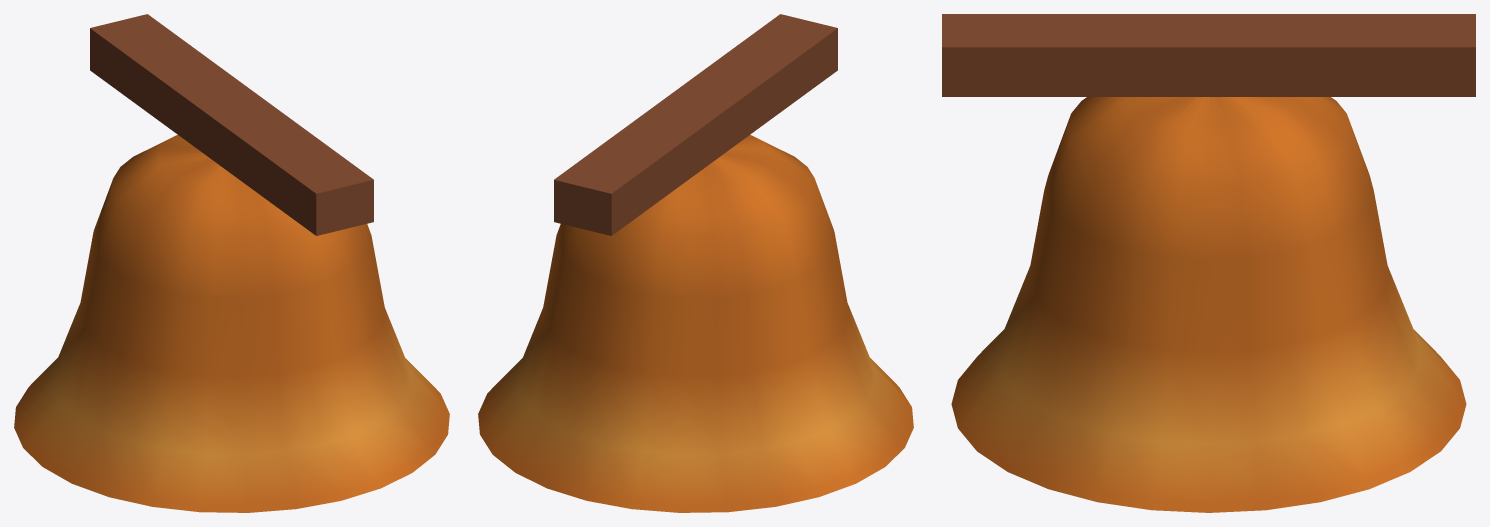
The model's file is bell.glb.
3 views of the same model, side by side, from view 1: azimuth 30°, elevation 25°; view 2: azimuth 150°, elevation 25°; view 3: azimuth 270°, elevation 25° (orthographic). The views are drawn at different scales.
Parts seen in each view (by area): view 1: SinoMalha; view 2: SinoMalha; view 3: SinoMalha.
Boxes of the visible parts, bbox=[...] form: SinoMalha: bbox=[14, 14, 449, 512]; SinoMalha: bbox=[478, 14, 913, 512]; SinoMalha: bbox=[942, 14, 1475, 512].
Size of the model in its own units: 3.28 by 2.62 by 3.4.
